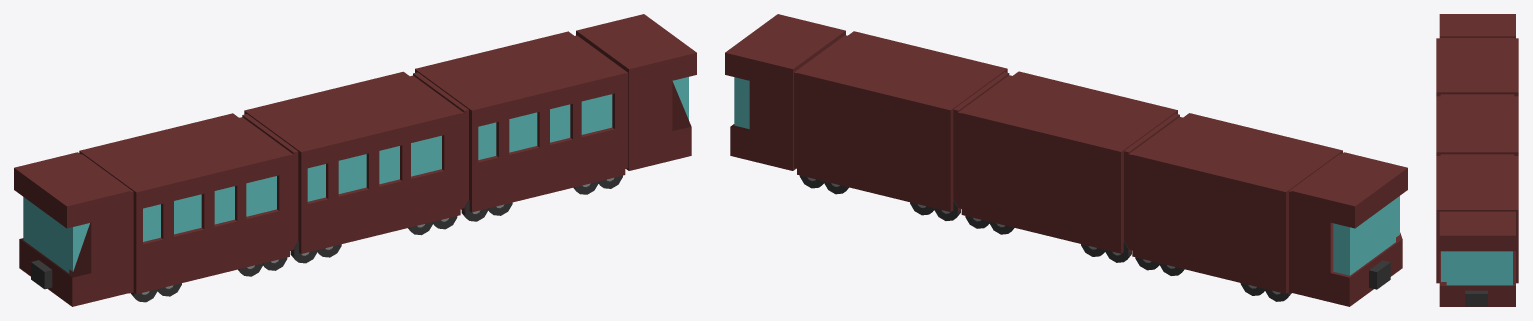
File: 3D.Treno.fbx
3 views of the same model, side by side, from view 1: azimuth 30°, elevation 25°; view 2: azimuth 150°, elevation 25°; view 3: azimuth 270°, elevation 25° (orthographic). The views are drawn at different scales.
Parts seen in each view (by area): view 1: Treno, Finestre, Ruote, Cube.002; view 2: Treno, Finestre, Ruote, Cube.002; view 3: Treno, Finestre, Cube.002.
Boxes of the visible parts, left/top/right/bottom form: Treno: left=14, top=14, right=696, bottom=306; Finestre: left=23, top=77, right=688, bottom=273; Ruote: left=131, top=175, right=622, bottom=302; Cube.002: left=31, top=260, right=52, bottom=289; Treno: left=725, top=14, right=1407, bottom=306; Finestre: left=734, top=77, right=1399, bottom=275; Ruote: left=799, top=175, right=1291, bottom=301; Cube.002: left=1369, top=260, right=1390, bottom=289; Treno: left=1436, top=14, right=1518, bottom=306; Finestre: left=1441, top=251, right=1512, bottom=285; Cube.002: left=1465, top=290, right=1487, bottom=306.
Size of the model in its own units: 277 by 48.13 by 43.1.
